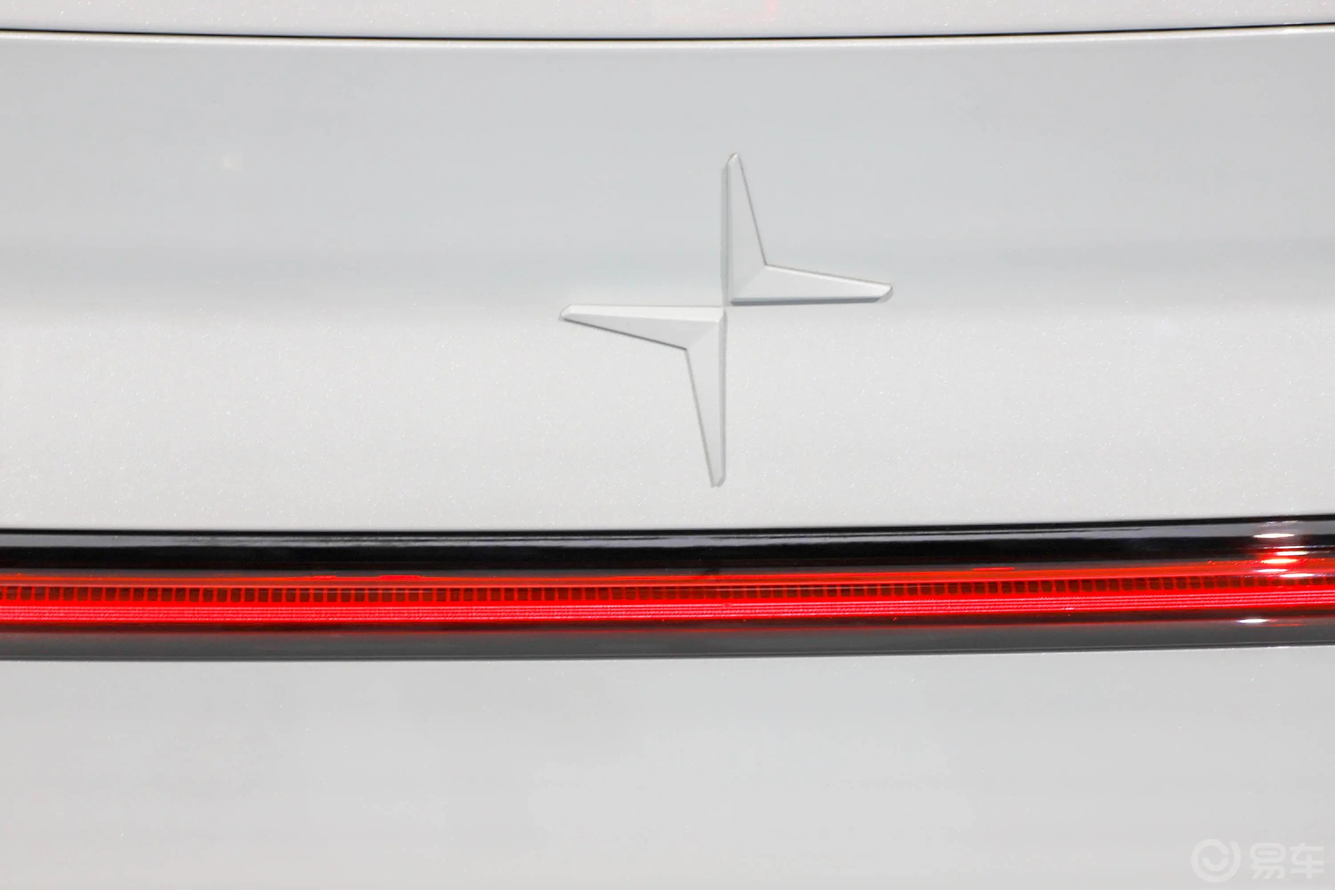Polestar: (561, 154, 892, 487)
